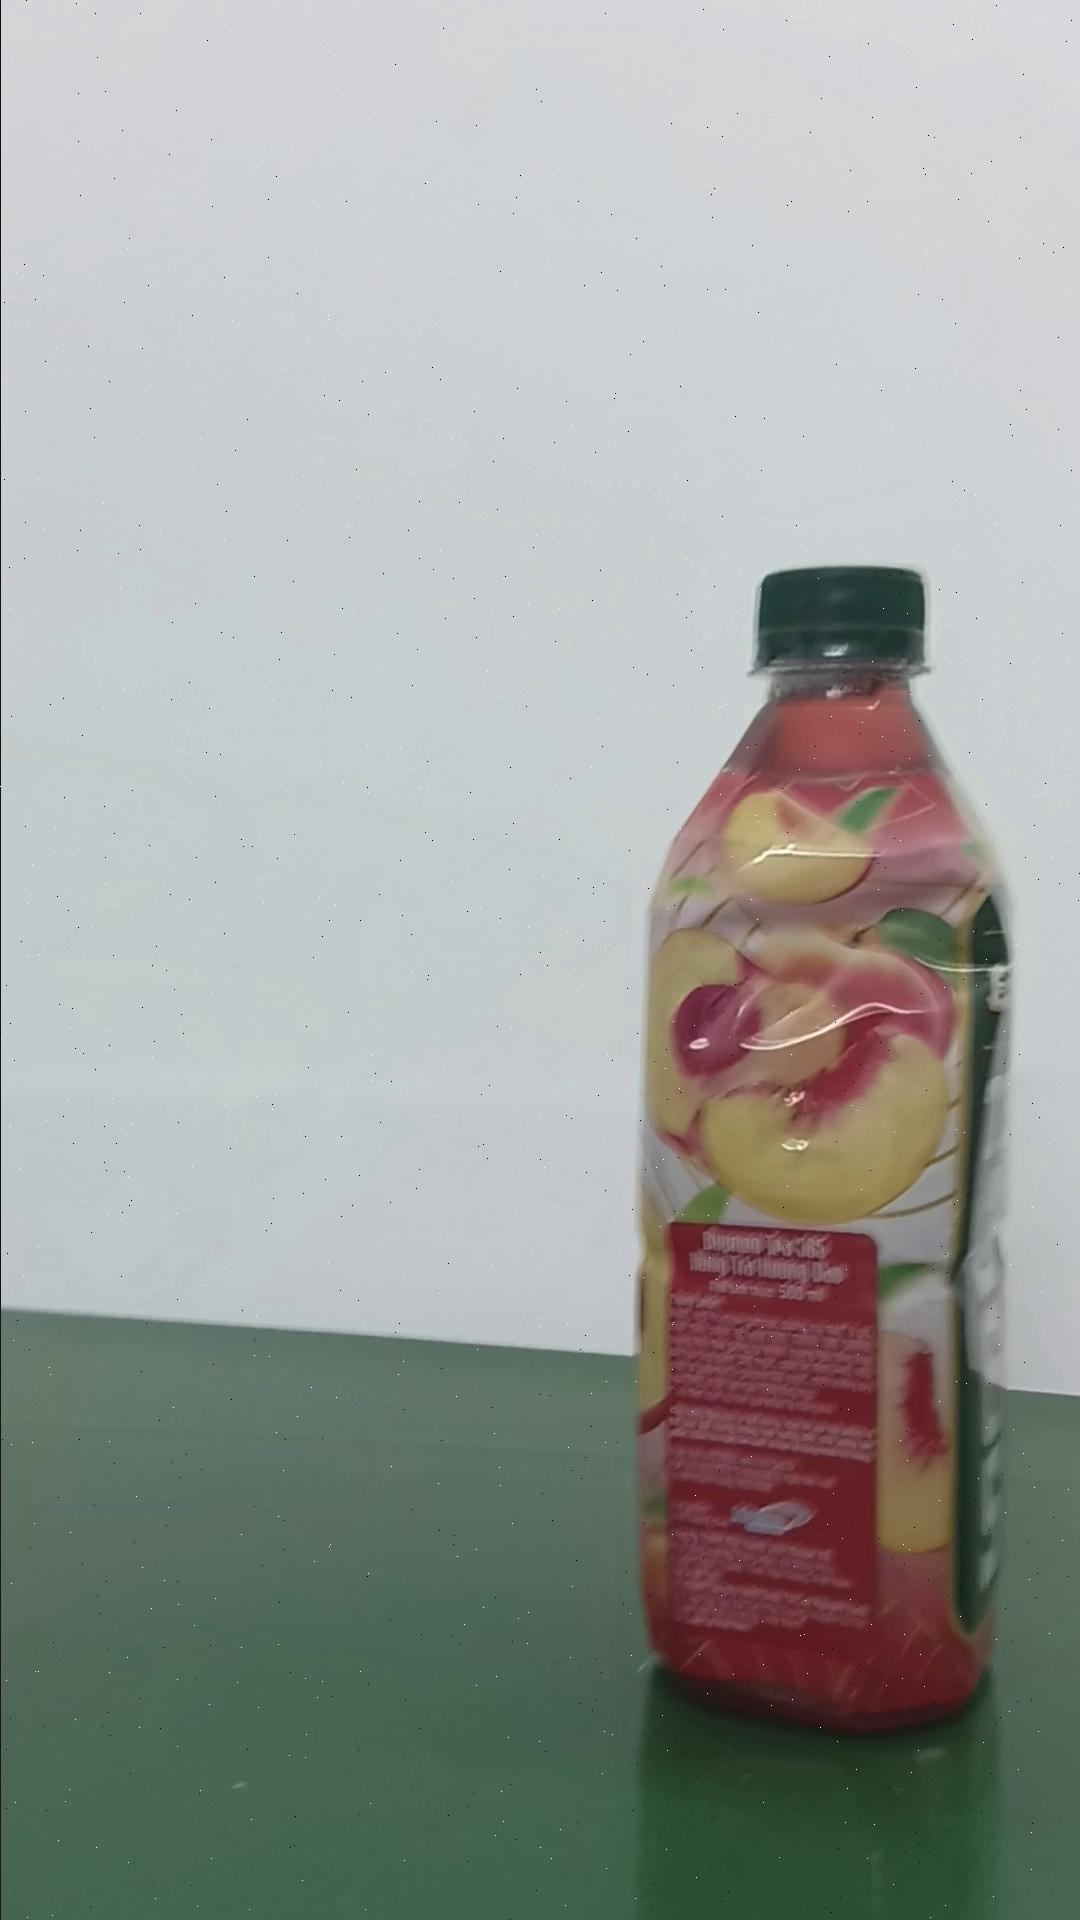loi meo sp: (629, 562, 1014, 1731)
